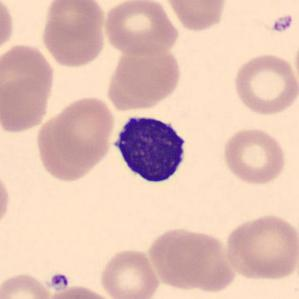Lymphocyte: (106, 108, 194, 189)
Platelets: (269, 12, 295, 34), (48, 270, 70, 291)
RBC: (40, 94, 116, 183), (152, 228, 239, 295), (104, 43, 184, 111), (222, 212, 298, 282), (0, 41, 57, 133), (39, 0, 108, 69), (231, 51, 298, 117), (102, 0, 180, 56), (220, 125, 288, 186), (98, 246, 161, 299), (164, 0, 229, 33), (1, 270, 52, 299), (42, 283, 118, 299), (0, 165, 13, 233), (0, 0, 15, 57)
